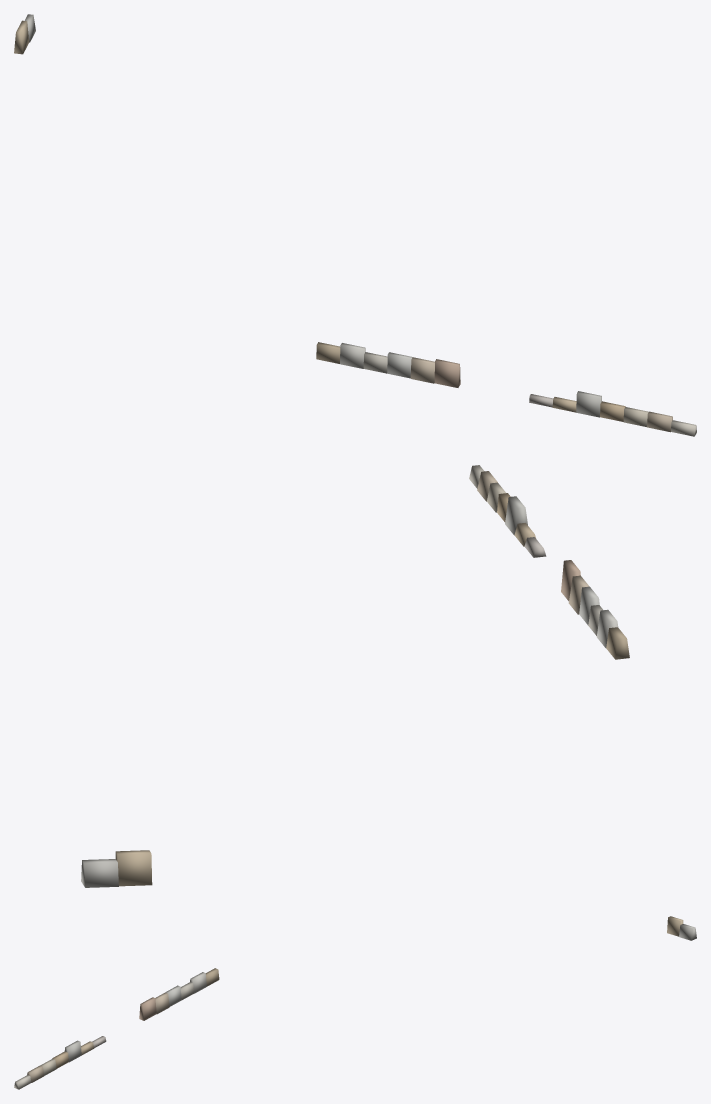
Rendered from farm_-58_-46_collision.glb.
3 renders of one model, top to bottom at view 1: azimuth 30°, elevation 25°; view 2: azimuth 150°, elevation 25°; view 3: azimuth 270°, elevation 25°, orthographic. The views are drawn at different scales.
Visible parts, largest first — view 1: geometry_0; view 2: geometry_0; view 3: geometry_0.
Boxes of the visible parts, left/top/right/bottom form: geometry_0: left=14, top=14, right=696, bottom=436; geometry_0: left=81, top=465, right=629, bottom=887; geometry_0: left=14, top=916, right=696, bottom=1089.
Bounding box in the file's own units: 18.32 × 9.19 × 60.85.
